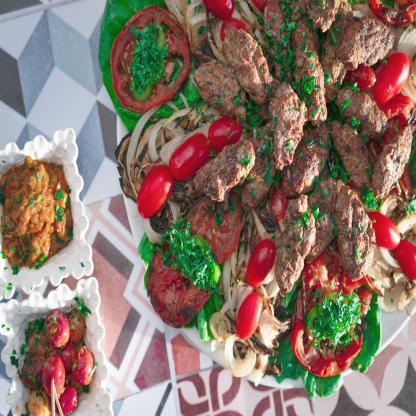Carne: (289, 21, 340, 118), (321, 175, 368, 274), (271, 206, 322, 291), (222, 21, 270, 104), (330, 121, 385, 193), (194, 61, 256, 118), (270, 81, 310, 168), (204, 136, 257, 199), (373, 124, 415, 200), (342, 14, 396, 68), (334, 86, 385, 140)
